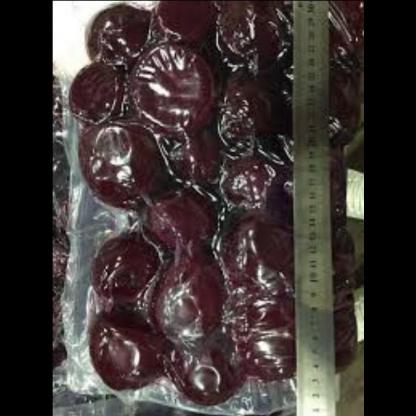beet: (69, 1, 298, 396)
